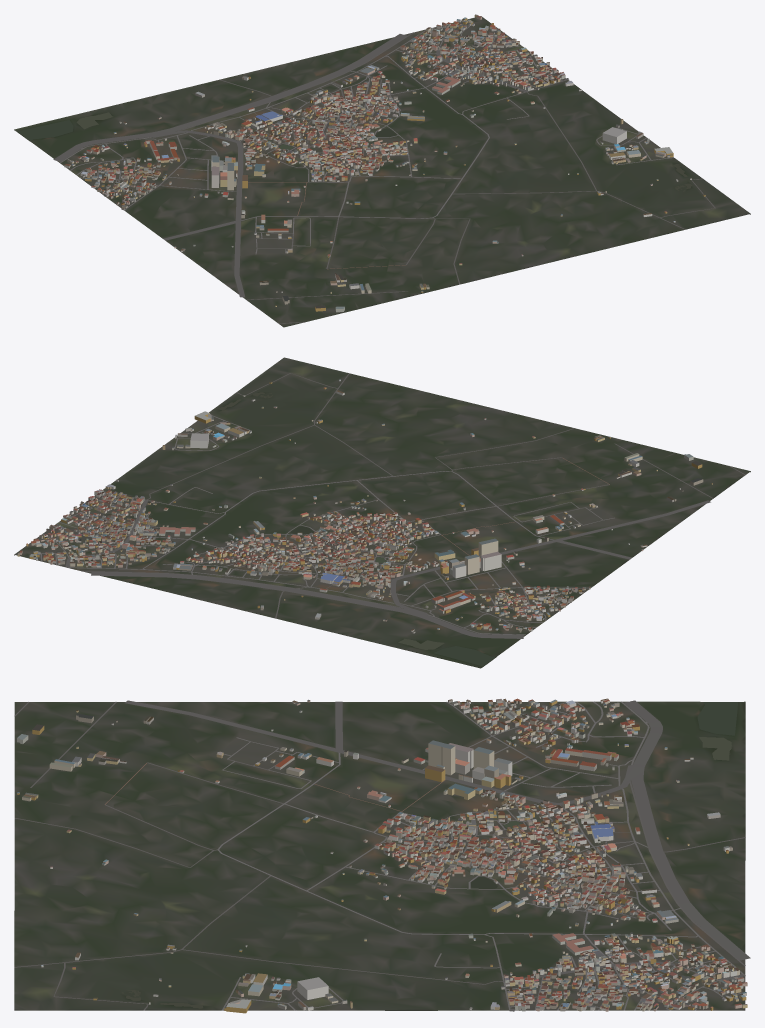
The picture shows the model from 3 angles, top to bottom: view 1: azimuth 30°, elevation 25°; view 2: azimuth 150°, elevation 25°; view 3: azimuth 270°, elevation 25°; orthographic projection. The views are drawn at different scales.
Parts seen in each view (by area): view 1: ground, buildings, roads, water; view 2: ground, buildings, roads, water; view 3: ground, buildings, roads, water.
Boxes of the visible parts, <box> form: ground: <box>14,16,750,327</box>; buildings: <box>64,14,705,312</box>; roads: <box>53,24,715,323</box>; water: <box>17,112,691,191</box>; ground: <box>14,357,750,668</box>; buildings: <box>17,379,712,633</box>; roads: <box>40,373,745,638</box>; water: <box>218,392,495,666</box>; ground: <box>14,701,745,1010</box>; buildings: <box>17,698,747,1013</box>; roads: <box>14,700,750,1011</box>; water: <box>121,702,737,1008</box>.
Size of the model in its own units: 1418 by 59.7 by 1413.
